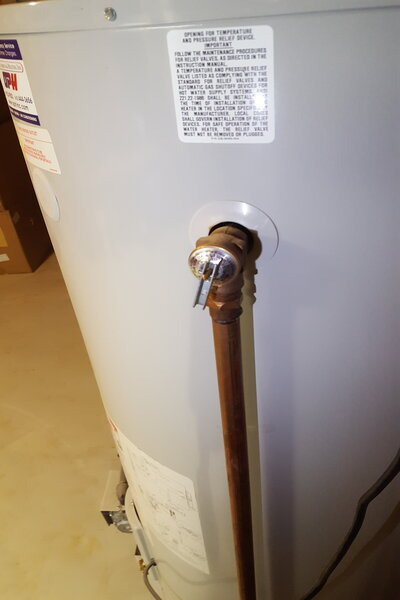valve: (187, 224, 250, 327)
